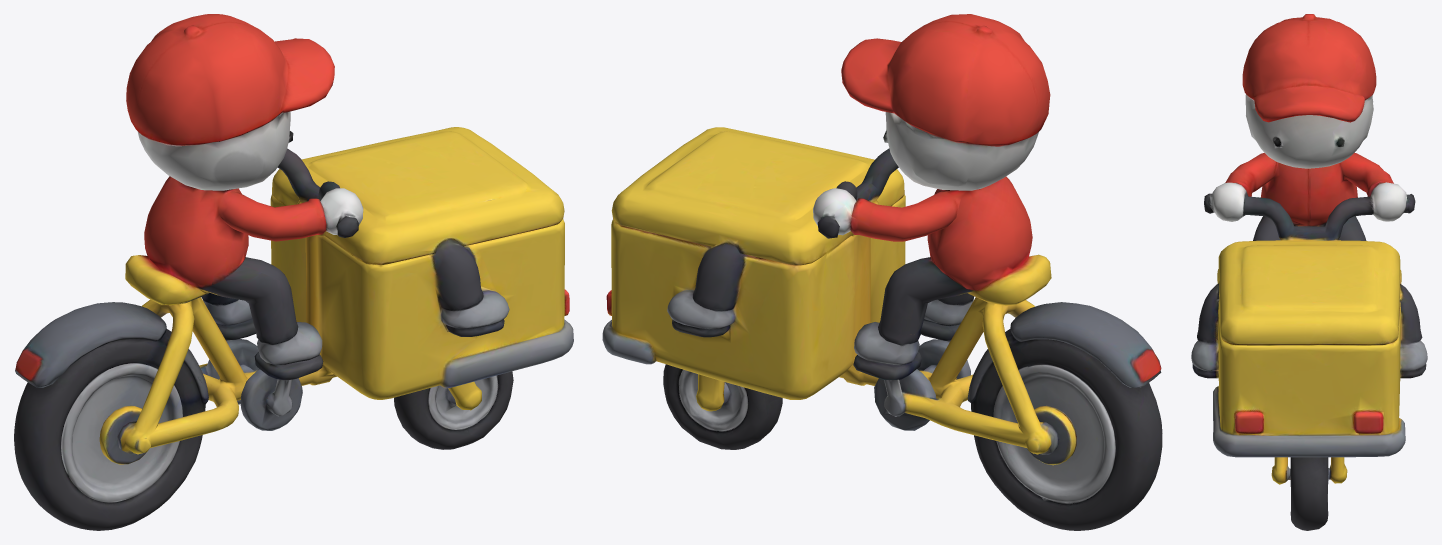
File: delivery_bike.glb
3 views of the same model, side by side, from view 1: azimuth 30°, elevation 25°; view 2: azimuth 150°, elevation 25°; view 3: azimuth 270°, elevation 25° (orthographic). The views are drawn at different scales.
Visible parts, largest first — view 1: tripo_node_95001644-f689-40b4-b4db-605c271a9cfd; view 2: tripo_node_95001644-f689-40b4-b4db-605c271a9cfd; view 3: tripo_node_95001644-f689-40b4-b4db-605c271a9cfd.
Boxes of the visible parts, x1,y1,x2,y2 form: tripo_node_95001644-f689-40b4-b4db-605c271a9cfd: [14, 14, 573, 530]; tripo_node_95001644-f689-40b4-b4db-605c271a9cfd: [602, 14, 1162, 530]; tripo_node_95001644-f689-40b4-b4db-605c271a9cfd: [1191, 14, 1427, 530].
Size of the model in its own units: 0.9793 by 0.8855 by 0.4689.
Materials: 1 (1 with a texture image).
